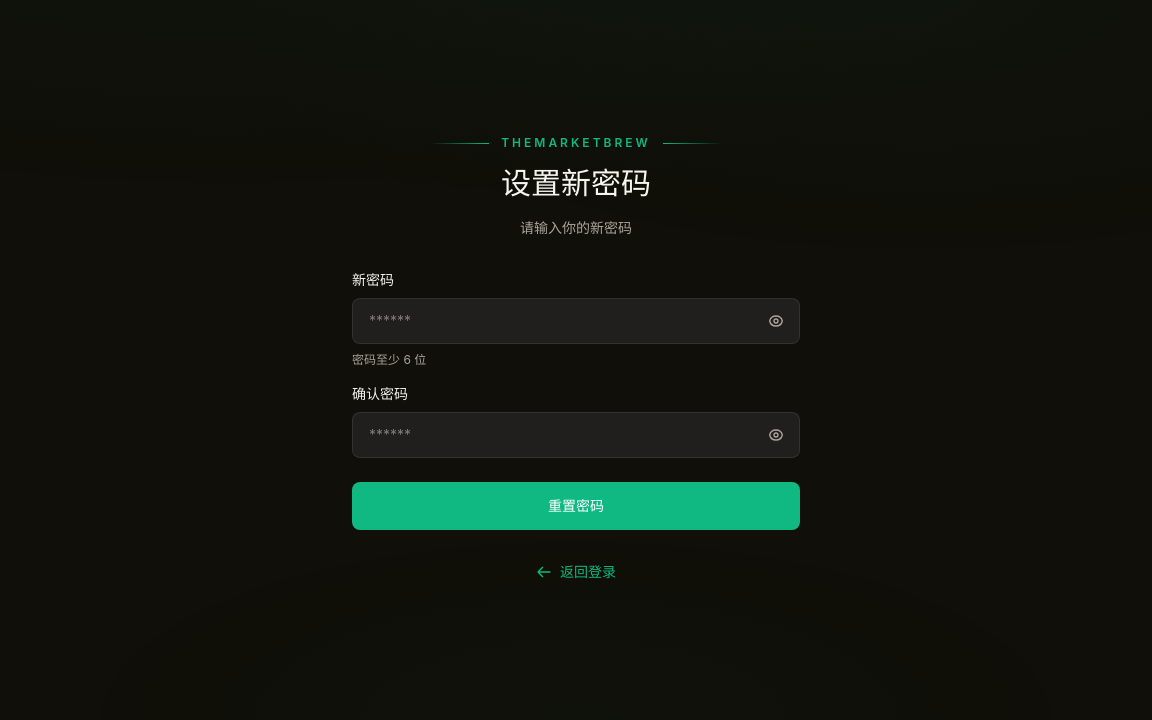
it: /reset-password page › shows success state and schedules redirect after successful reset
In the password field labelled "新密码": (576, 321) [352,298,800,344], type "12345678"
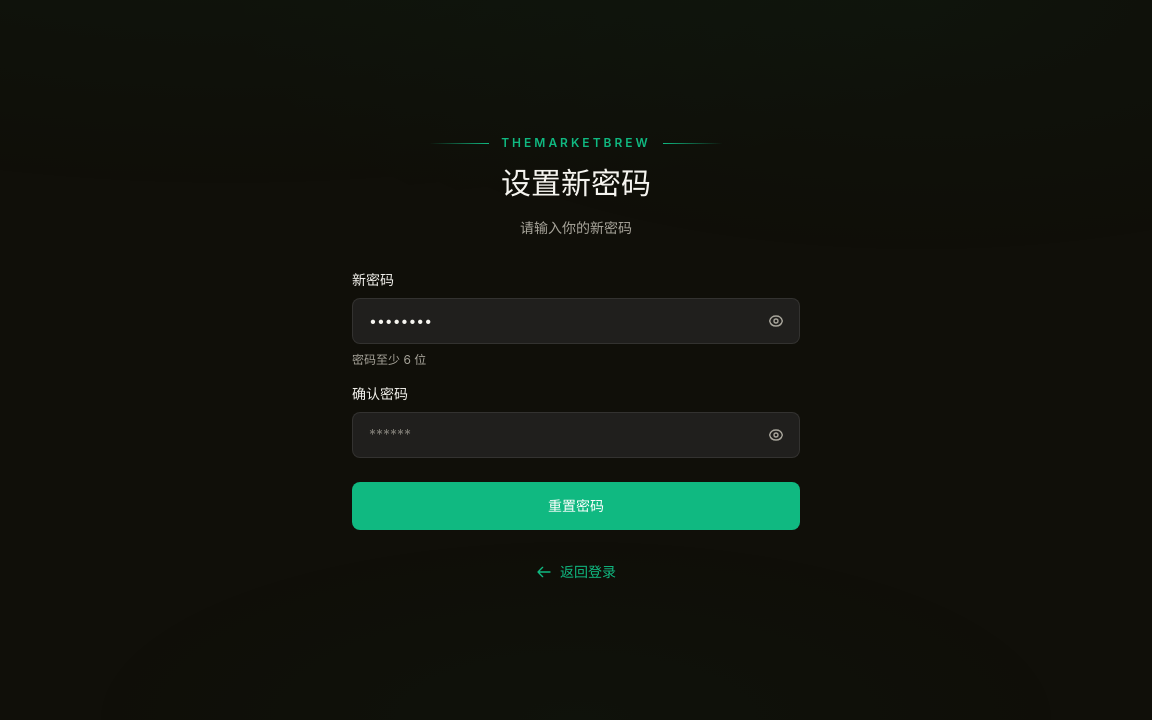
In the password field labelled "确认密码": (576, 435) [352,412,800,458], type "12345678"
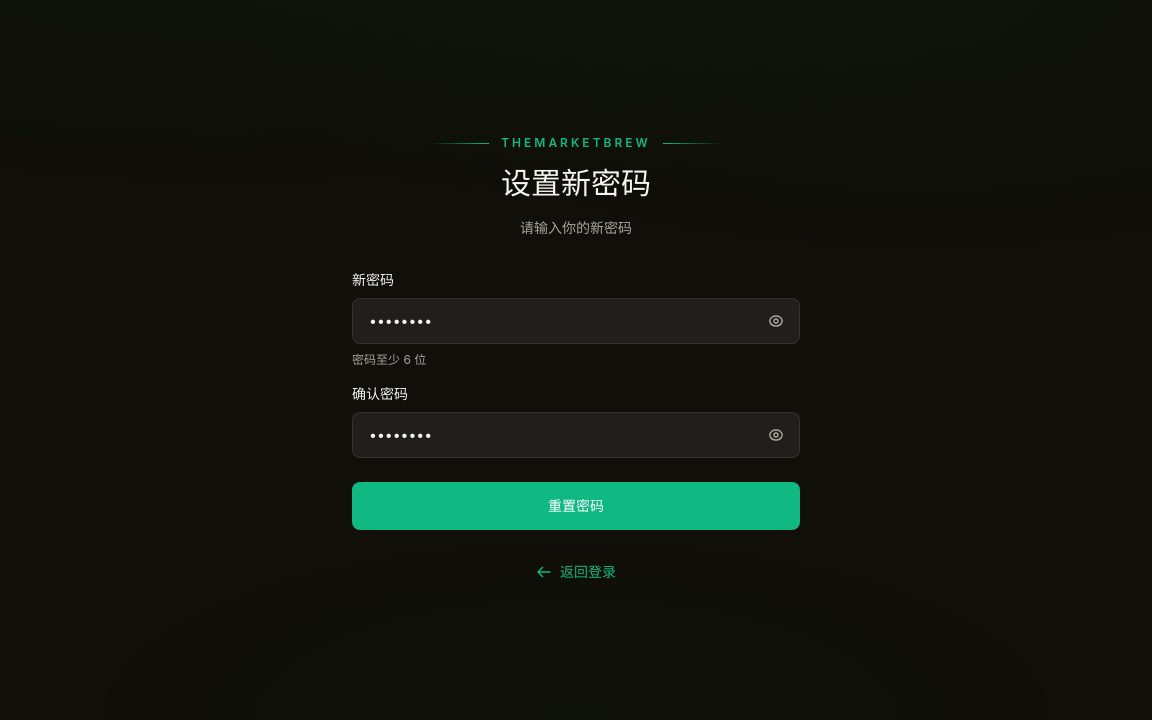
Click the button "重置密码": (576, 506) [352,482,800,530]
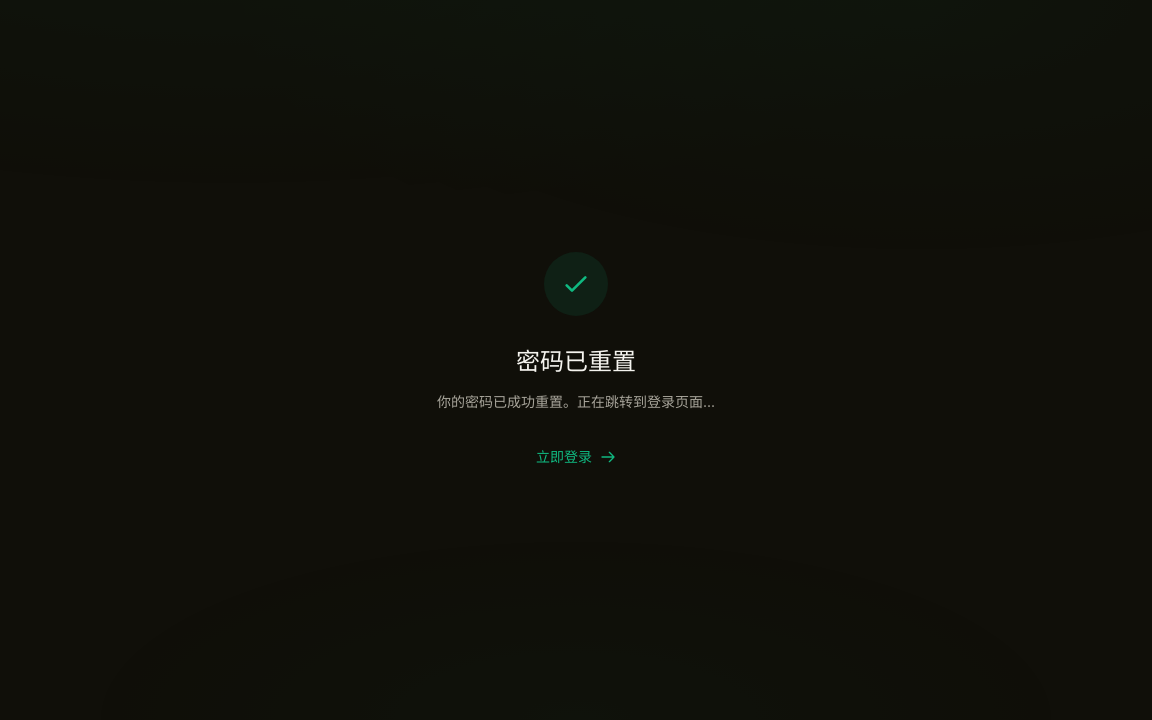
Expected: the heading "密码已重置" is shown, [516,346,636,377]
